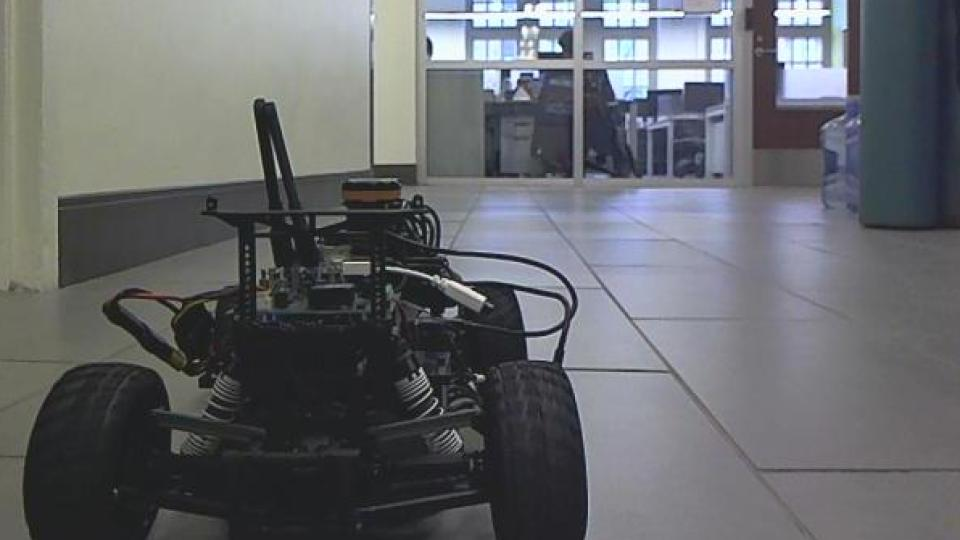car: (19, 95, 594, 540)
